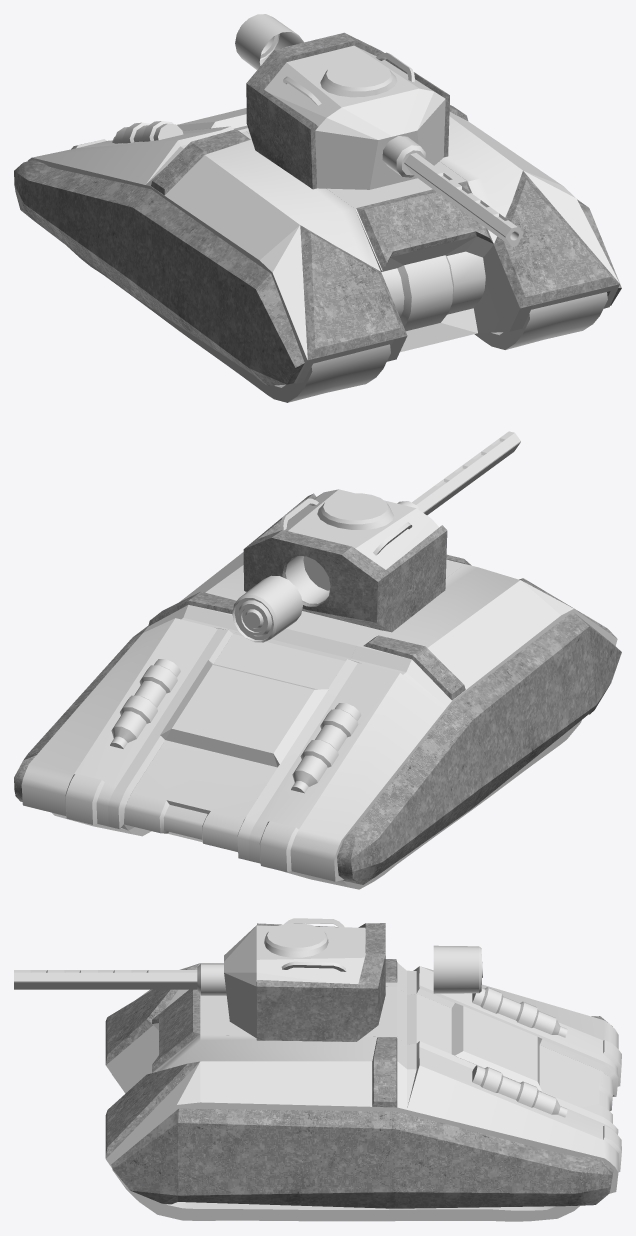
File: Tank_3.blend1.fbx
3 renders of one model, top to bottom at view 1: azimuth 30°, elevation 25°; view 2: azimuth 150°, elevation 25°; view 3: azimuth 270°, elevation 25°, orthographic. The views are drawn at different scales.
Visible parts, largest first — view 1: Frame_0_low, Armor_0_low, Frame_01_low, Tower_1_low, Frame_03_low, Tank_caterpillar_0_low, Armor_01_low, Frame_001_low, Muzzle_low, Luke_low, Battery_low, Frame_002_low (+3 smaller); view 2: Frame_0_low, Armor_0_low, Frame_03_low, Armor_01_low, Tower_1_low, Cylinders_0_low, Battery_low, Frame_002_low, Muzzle_low, Luke_low, Tank_caterpillar_0_low, Handle_low; view 3: Armor_0_low, Frame_0_low, Frame_03_low, Armor_01_low, Tower_1_low, Tank_caterpillar_0_low, Frame_01_low, Cylinders_0_low, Muzzle_low, Battery_low, Frame_001_low, Frame_002_low (+3 smaller).
Part boxes in pixels (box(x1,y1,x2,y2)): Frame_0_low: box(28, 112, 619, 383); Armor_0_low: box(14, 159, 621, 385); Frame_01_low: box(300, 171, 619, 360); Tower_1_low: box(264, 45, 445, 189); Frame_03_low: box(177, 108, 494, 352); Tank_caterpillar_0_low: box(67, 246, 607, 402); Armor_01_low: box(246, 32, 449, 189); Frame_001_low: box(356, 181, 493, 270); Muzzle_low: box(404, 153, 523, 247); Luke_low: box(320, 60, 397, 97); Battery_low: box(235, 14, 303, 69); Frame_002_low: box(151, 105, 468, 195); Frame_0_low: box(21, 552, 617, 881); Armor_0_low: box(14, 612, 621, 884); Frame_03_low: box(124, 559, 464, 851); Armor_01_low: box(243, 493, 447, 632); Tower_1_low: box(272, 489, 439, 603); Cylinders_0_low: box(110, 659, 361, 793); Battery_low: box(232, 575, 302, 642); Frame_002_low: box(148, 591, 465, 700); Muzzle_low: box(412, 431, 520, 515); Luke_low: box(317, 493, 393, 529); Tank_caterpillar_0_low: box(52, 720, 581, 889); Handle_low: box(280, 498, 412, 555); Armor_0_low: box(111, 1016, 613, 1208); Frame_0_low: box(106, 963, 621, 1193); Frame_03_low: box(152, 987, 612, 1123); Armor_01_low: box(256, 923, 385, 1041); Tower_1_low: box(224, 925, 365, 1037); Tank_caterpillar_0_low: box(112, 1075, 579, 1221); Frame_01_low: box(105, 963, 199, 1158); Cylinders_0_low: box(472, 987, 567, 1117); Muzzle_low: box(14, 970, 197, 989); Battery_low: box(433, 945, 482, 993); Frame_001_low: box(152, 989, 200, 1072); Frame_002_low: box(372, 959, 397, 1107).
Bounding box in the file's own units: 648 × 422 × 1053.
